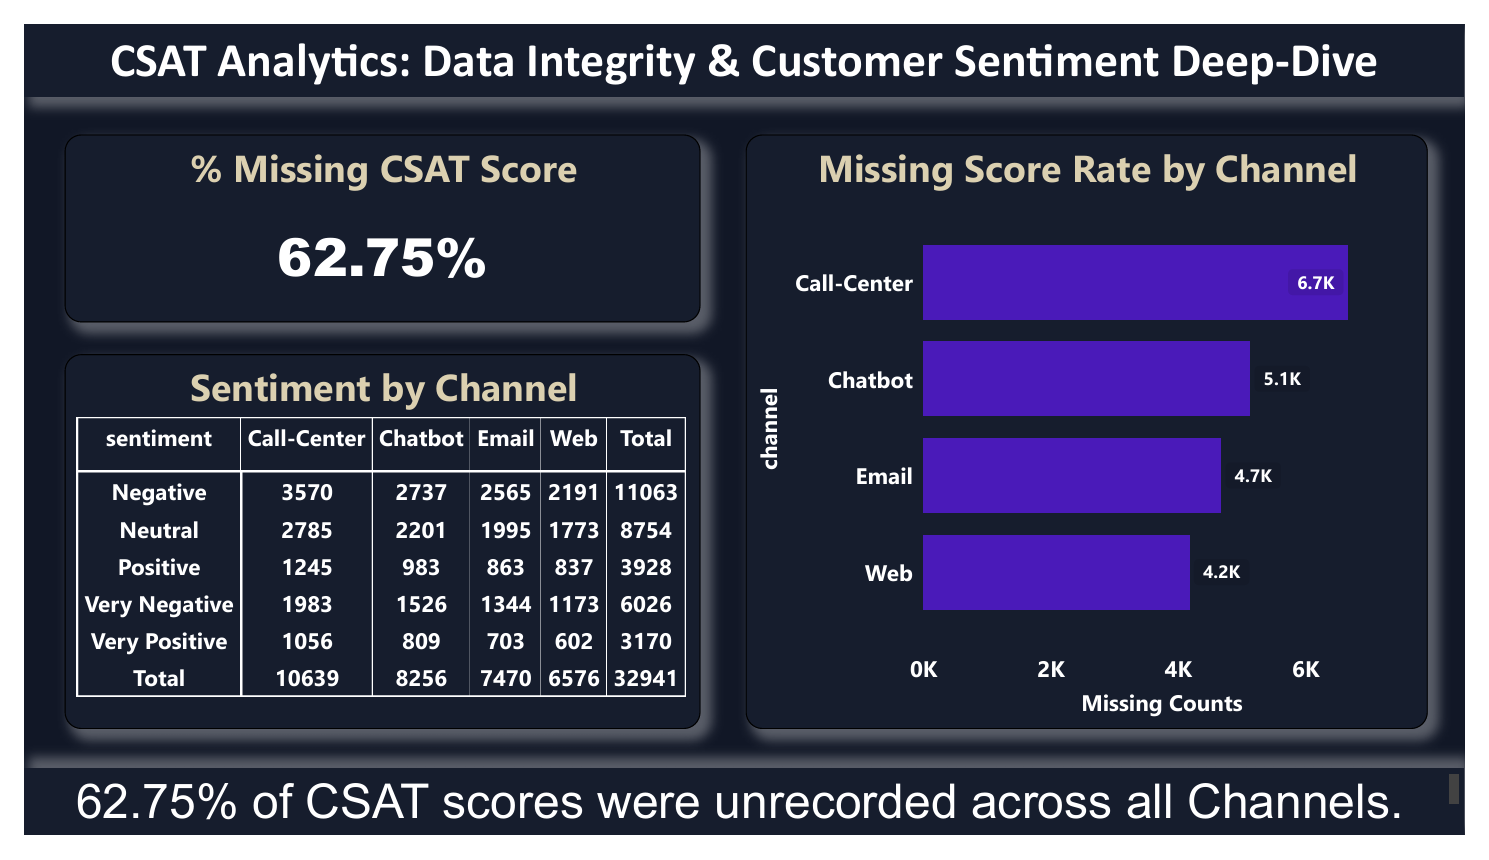

Layout of this report page (visuals, bound fields, positions):
{"tool":"powerbi","page":{"name":"Data Quality & Sentiment Deep-Dive","canvas":[1280,720],"ordinal":3},"visuals":[{"type":"clusteredBarChart","title":"Missing Score Rate by Channel","fields":{"Category":["Table1.channel"],"Y":["CountNonNull(Table1.id)"],"Series":["Table1.score_validity"]},"box":[640.6,98.3,606.6,527.2],"z":0},{"type":"pivotTable","title":"Sentiment by Channel","fields":{"Rows":["Table1.sentiment"],"Columns":["Table1.channel"],"Values":["CountNonNull(Table1.id)"]},"box":[35.9,292.9,565,332.6],"z":1000},{"type":"textbox","box":[0,661.4,1279.4,58.6],"z":2000},{"type":"textbox","box":[0,0,1279.4,64.3],"z":3000},{"type":"card","title":"% Missing CSAT Score","fields":{"Values":["Table1.% Missing CSAT Score"]},"box":[35.9,98.3,565,166.3],"z":4000}]}

Visuals, with their boxes in screenshot pixels (x1, y1, x2, y2), scaled from the page's 1280x720 canvas onto the 1489x860 screenshot:
"Missing Score Rate by Channel" clusteredBarChart: box(745, 117, 1451, 747)
"Sentiment by Channel" pivotTable: box(42, 350, 699, 747)
textbox: box(0, 790, 1488, 859)
textbox: box(0, 0, 1488, 77)
"% Missing CSAT Score" card: box(42, 117, 699, 316)
